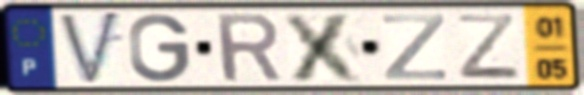G: (126, 12, 193, 85)
R: (212, 11, 286, 85)
V: (55, 8, 125, 89)
X: (280, 10, 369, 84)
Z: (453, 12, 524, 82), (380, 12, 449, 82)
